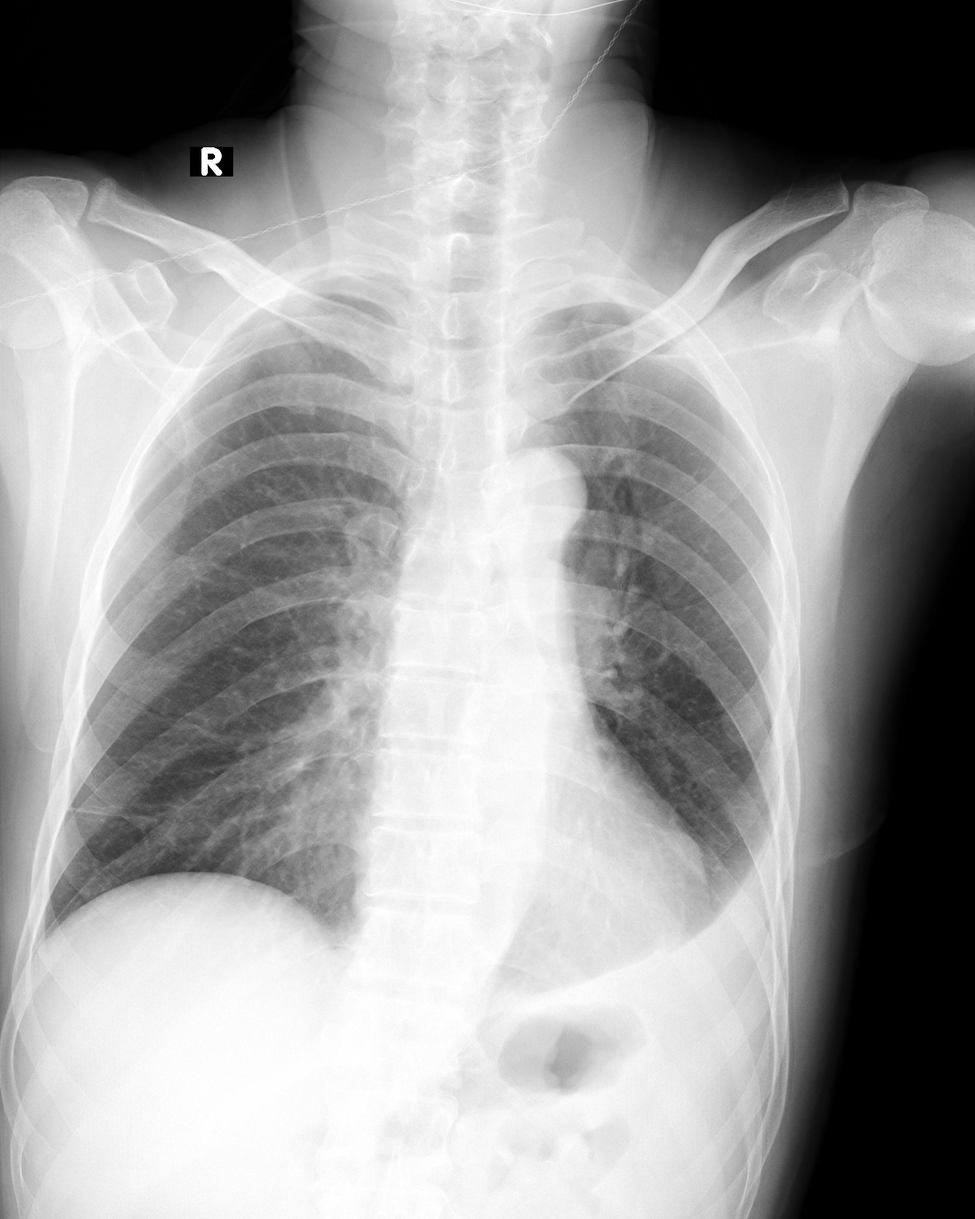Aortic enlargement: (480, 447, 589, 549)
Pleural thickening: (313, 265, 391, 279)
Pulmonary fibrosis: (65, 803, 178, 833)
